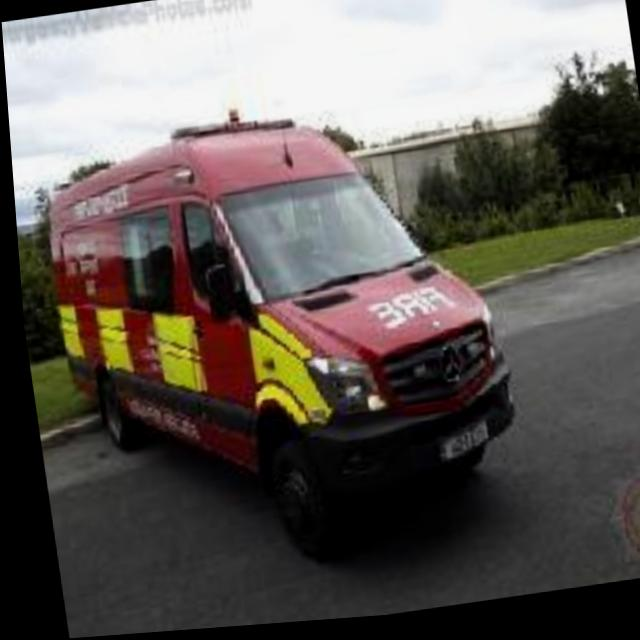emergency: (11, 78, 517, 569)
